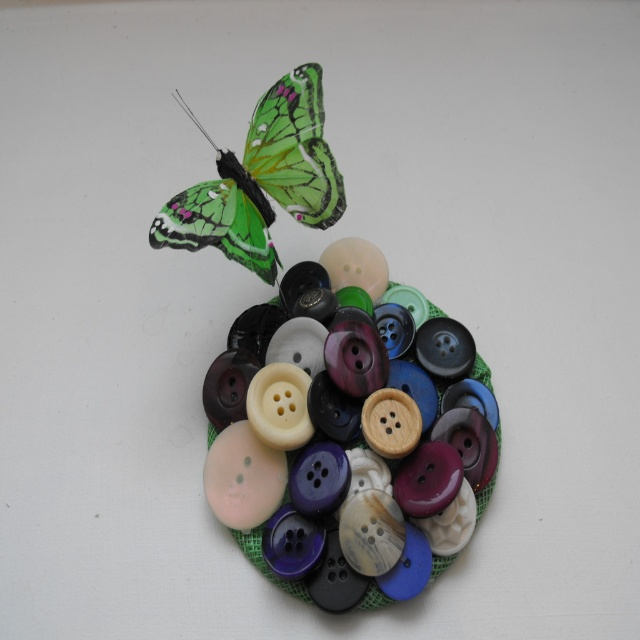Butterfly: (148, 54, 342, 295)
